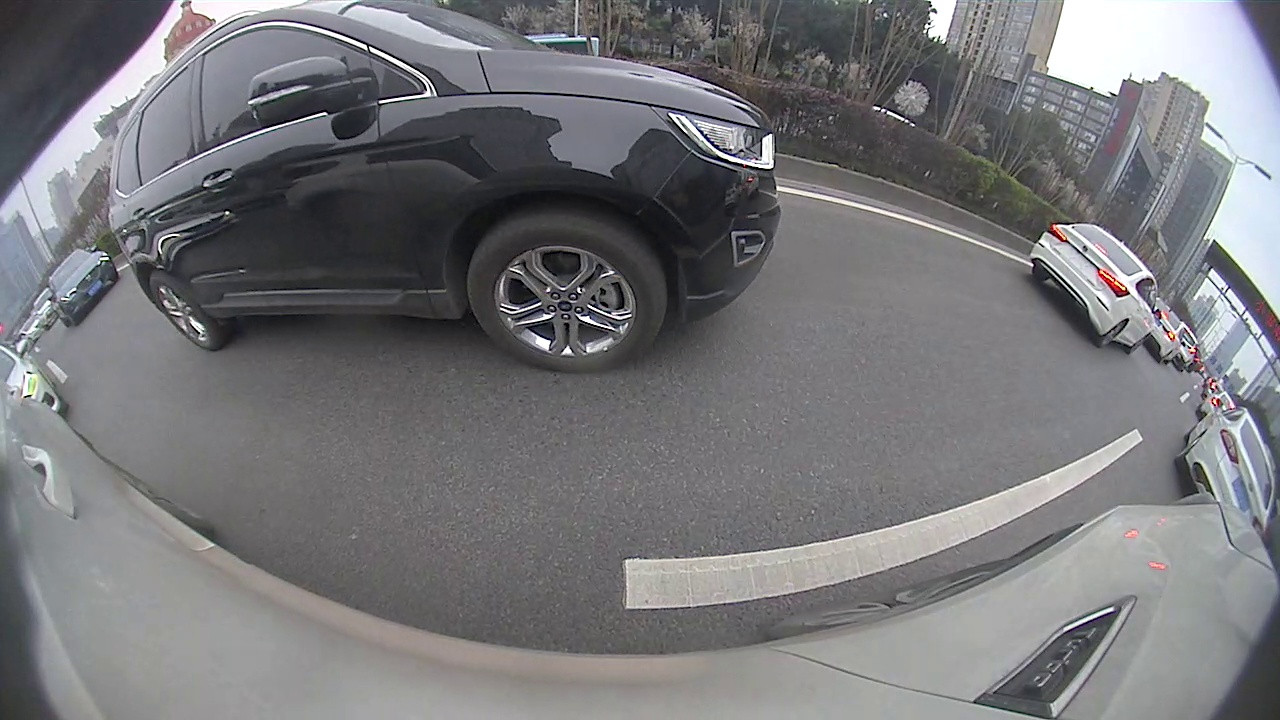car: (104, 1, 782, 375), (1029, 221, 1165, 355), (1174, 397, 1277, 534), (46, 244, 119, 327)
front: (466, 213, 668, 373)
rear: (149, 271, 222, 353), (1098, 321, 1128, 350)
